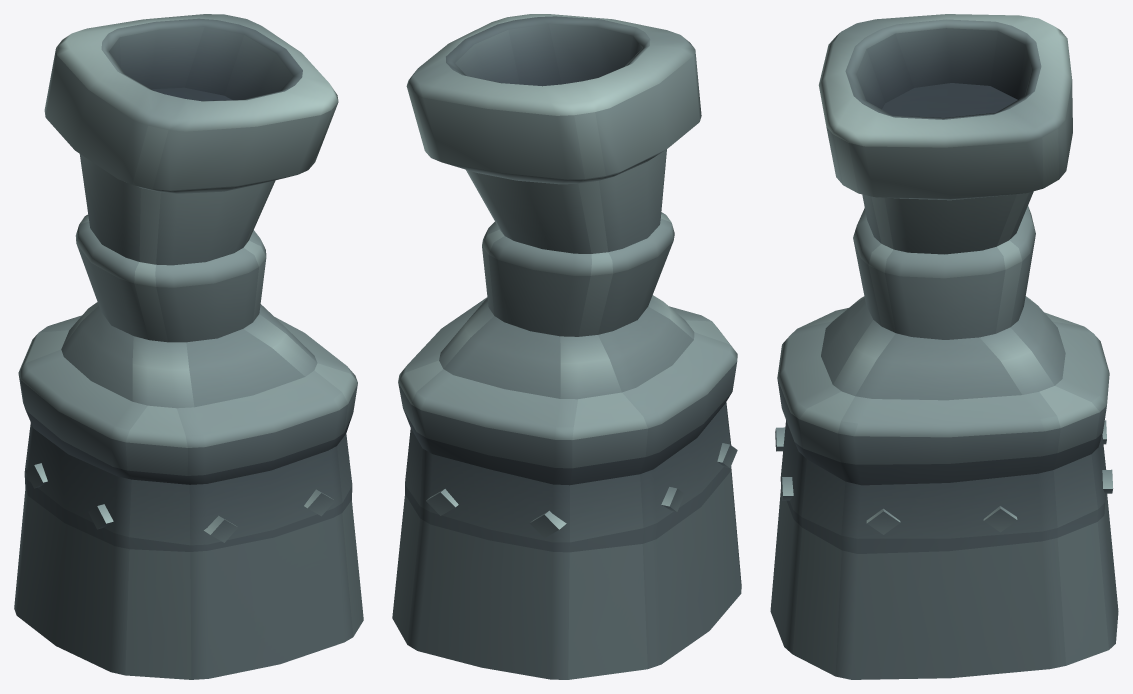
The model's file is chimney.fbx.
3 renders of one model, left to right at view 1: azimuth 30°, elevation 25°; view 2: azimuth 150°, elevation 25°; view 3: azimuth 270°, elevation 25°, orthographic.
Visible parts, largest first — view 1: chimney; view 2: chimney; view 3: chimney.
Boxes of the visible parts, box(x1,y1,x2,y2) form: chimney: box(14, 14, 363, 679); chimney: box(392, 14, 741, 679); chimney: box(770, 14, 1118, 679).
Size of the model in its own units: 194 by 387 by 216.
